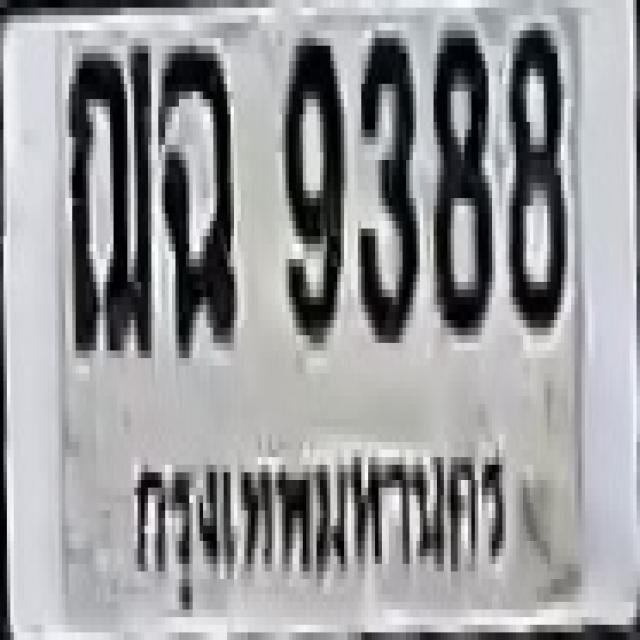3: (354, 31, 416, 336)
8: (430, 22, 489, 328), (506, 19, 564, 324)
9: (282, 31, 341, 336)
A09: (158, 38, 234, 351)
A12: (66, 38, 152, 351)
BKK: (120, 422, 514, 596)
